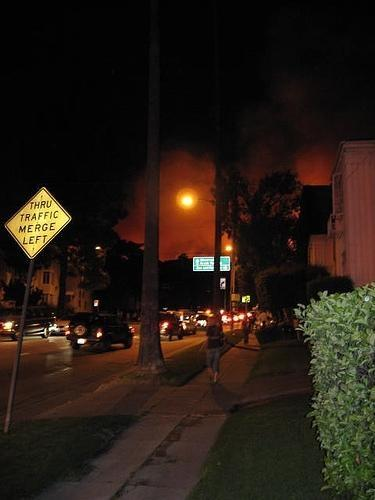car: (66, 311, 134, 354), (1, 314, 57, 342), (160, 312, 184, 341), (181, 317, 199, 335), (195, 313, 214, 328), (221, 314, 231, 324), (238, 314, 246, 322)
